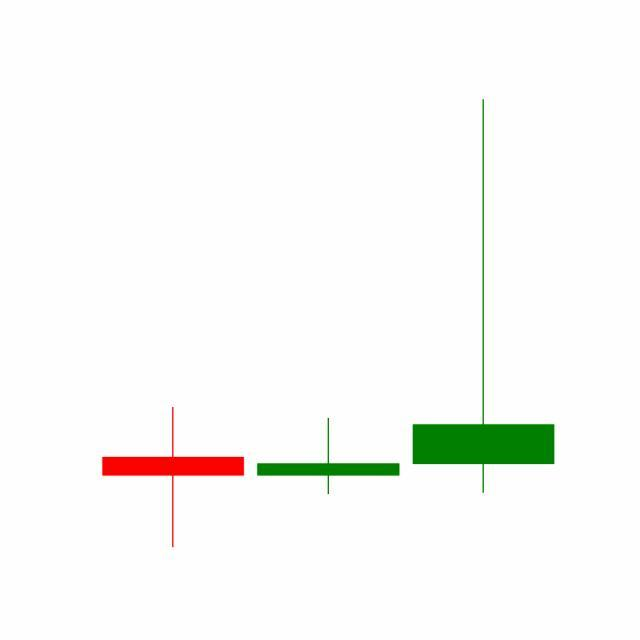Spinning Top: (250, 417, 407, 496)
